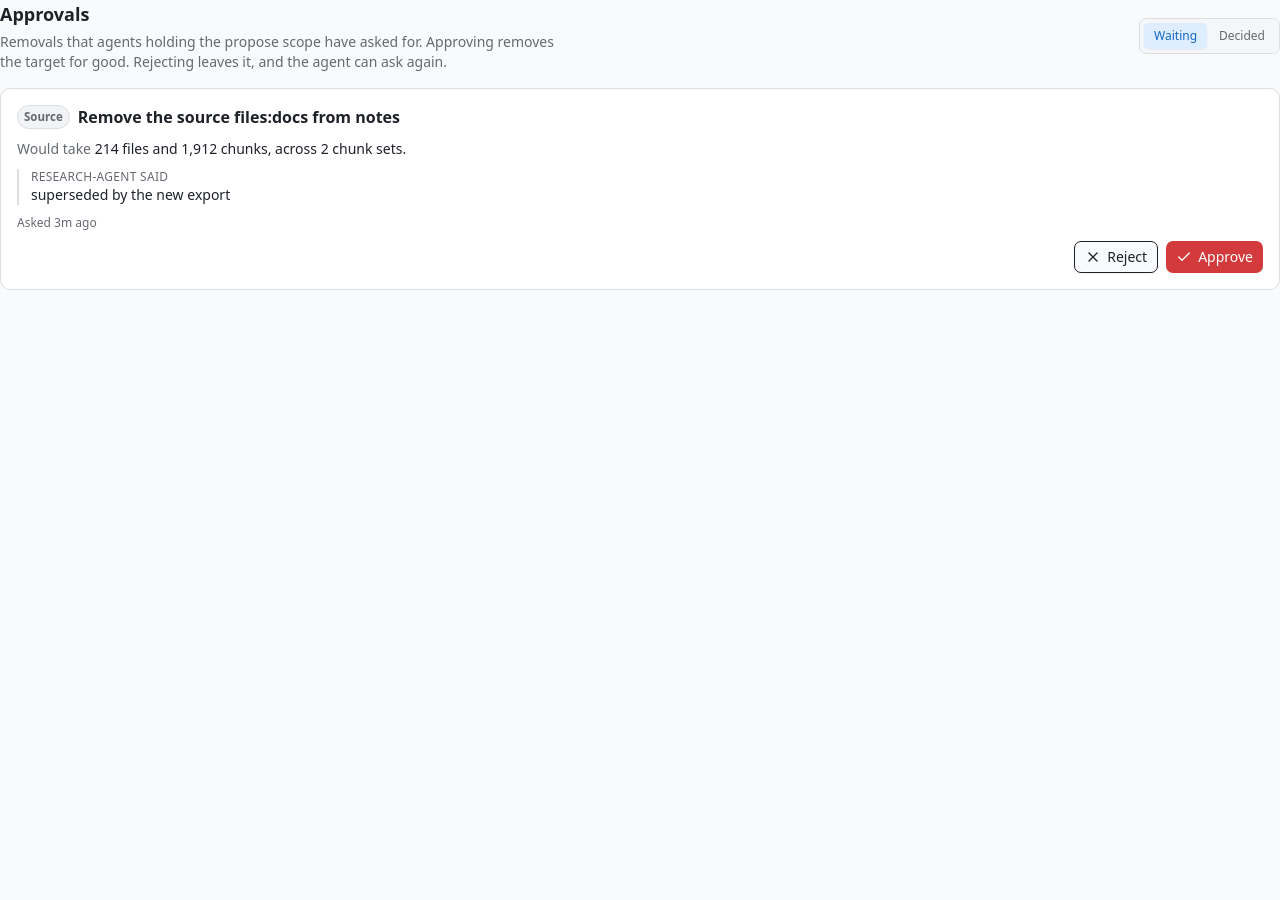
Test case: approving › keeps the files-on-disk wording for a source
Click the button with aria-label "Approve: Remove the source" at (1215, 257), box [1166,241,1263,273]
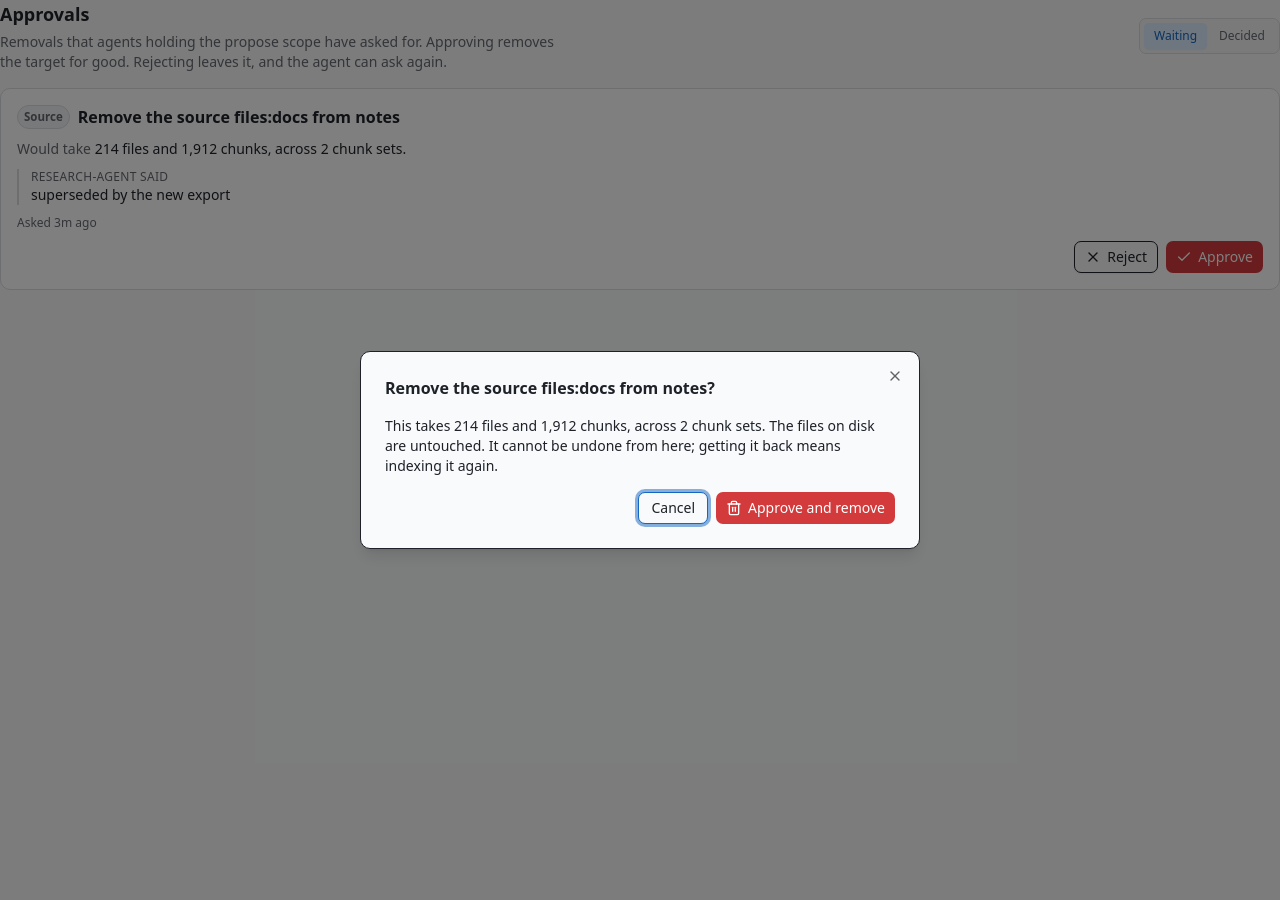
Expected: the text "The files on disk are untouched" is shown, [385,416,875,475]
